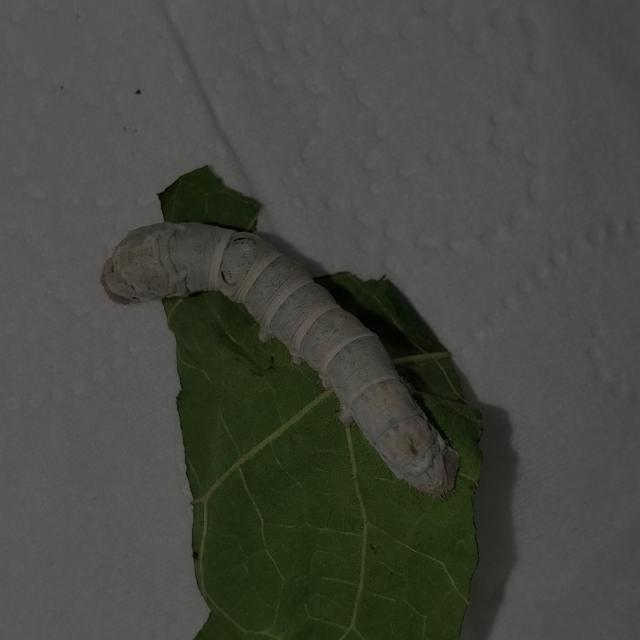Healthy: (79, 172, 483, 538)
